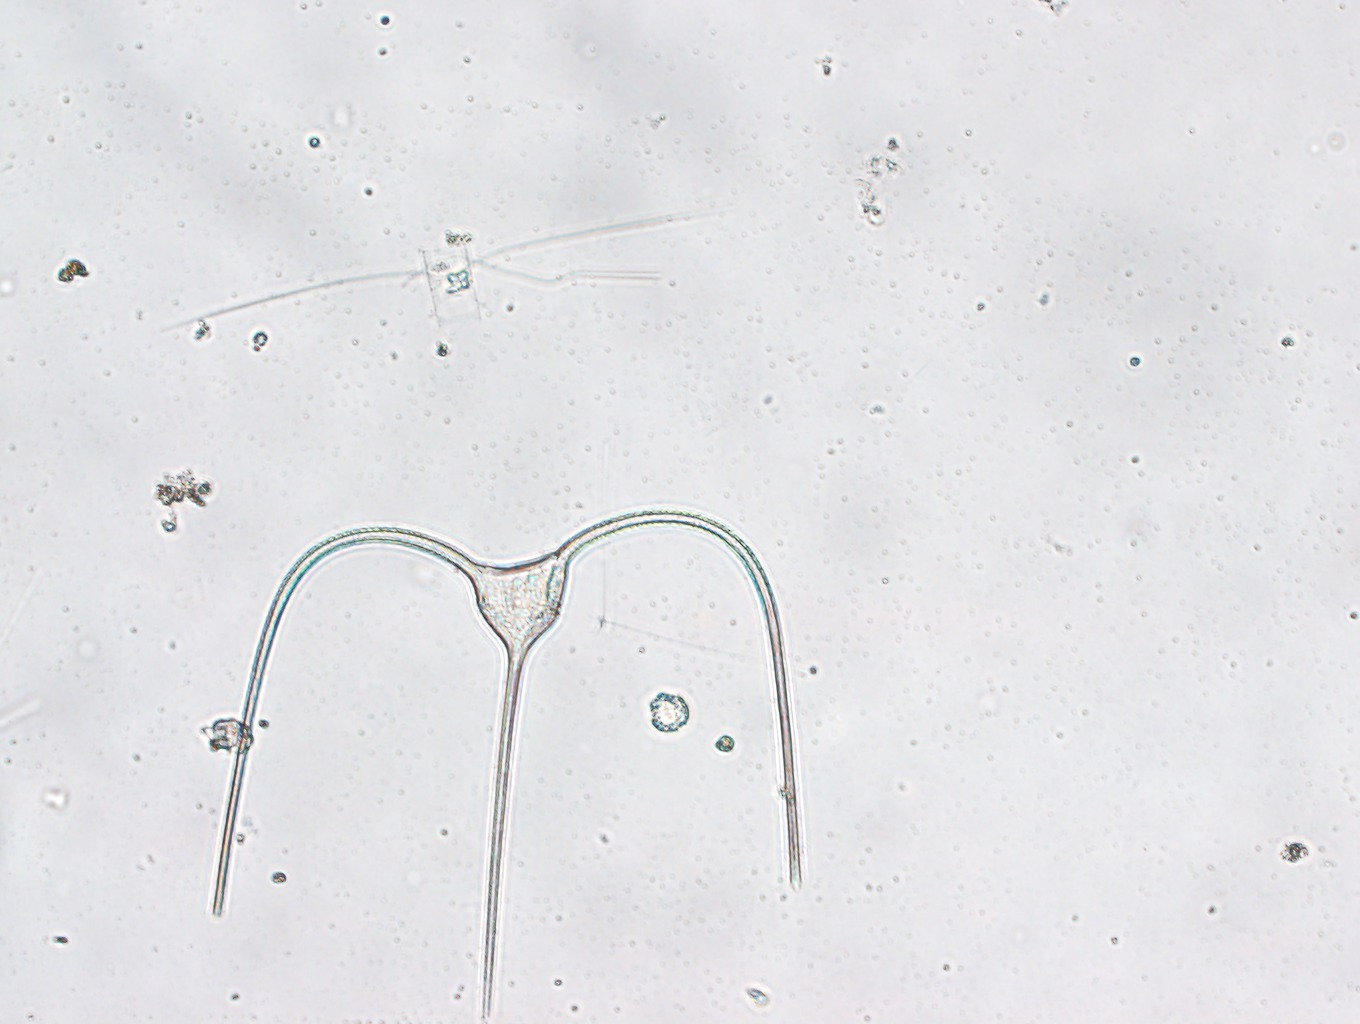ceratium trichoceros: (210, 511, 802, 1024)
chaetoceros: (159, 210, 719, 331)
